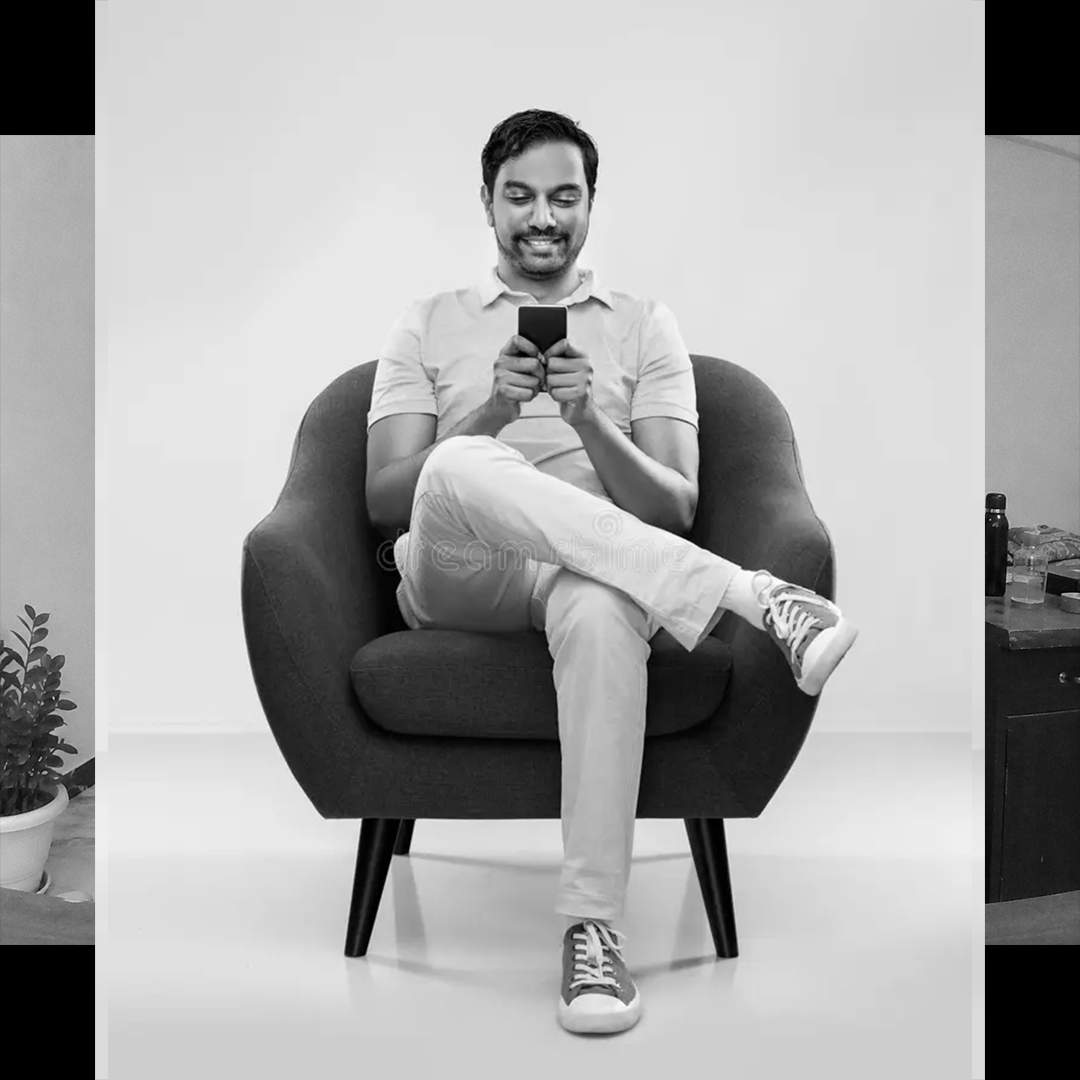distracted: (355, 95, 767, 694)
